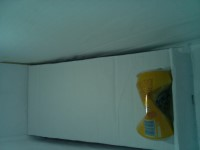kaleng: (135, 69, 174, 138)
